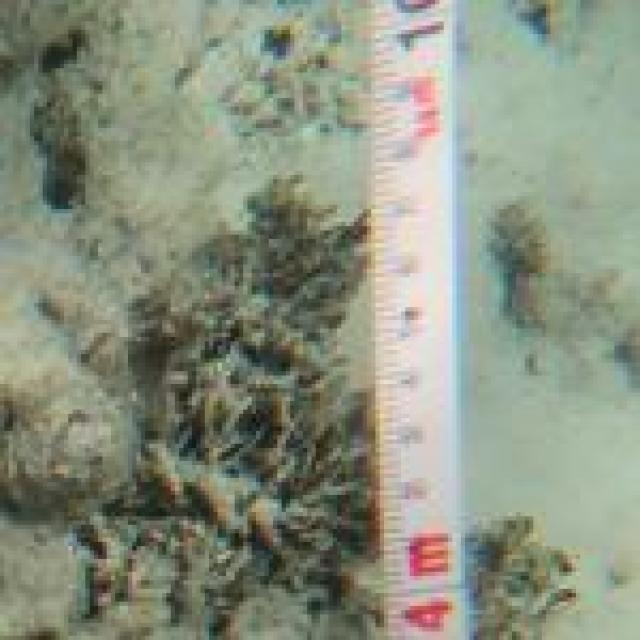Dead Coral: (98, 166, 377, 640)
